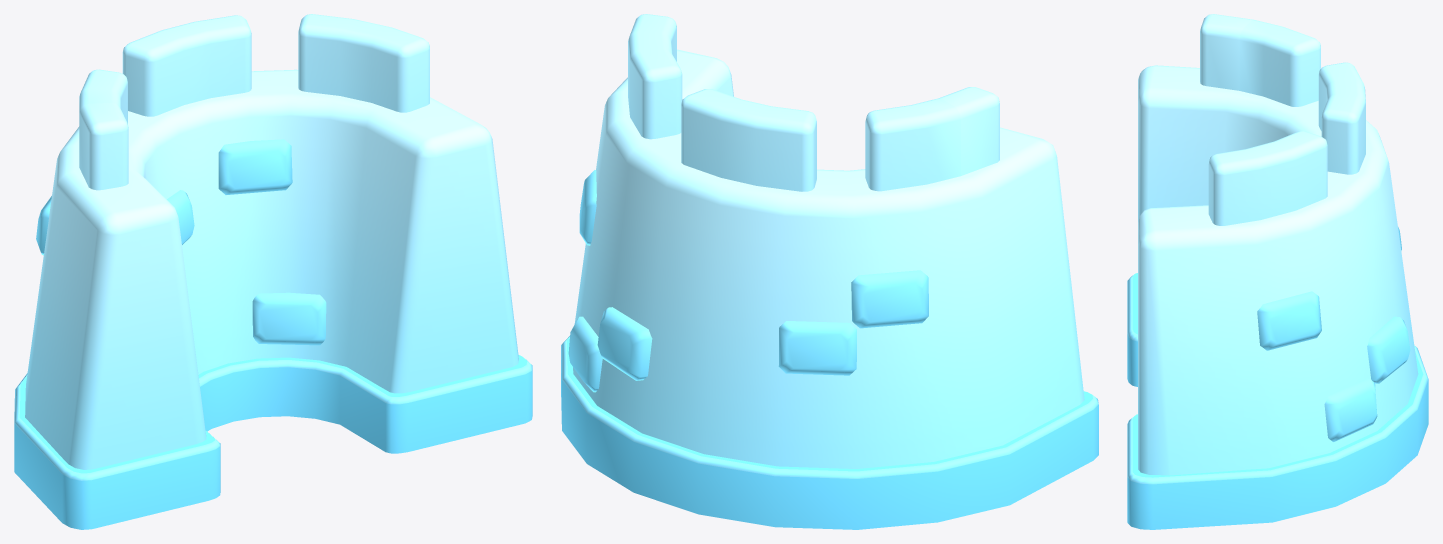
Rendered from wall_003.glb.
3 renders of one model, left to right at view 1: azimuth 30°, elevation 25°; view 2: azimuth 150°, elevation 25°; view 3: azimuth 270°, elevation 25°, orthographic. The views are drawn at different scales.
Visible parts, largest first — view 1: wall_003; view 2: wall_003; view 3: wall_003.
Part boxes in pixels (x1=…): wall_003: x1=14, y1=14, x2=532, y2=529; wall_003: x1=561, y1=14, x2=1098, y2=529; wall_003: x1=1127, y1=14, x2=1428, y2=529.
Size of the model in its own units: 7.49 by 5.55 by 4.52.
Materials: 1 (1 with a texture image).
